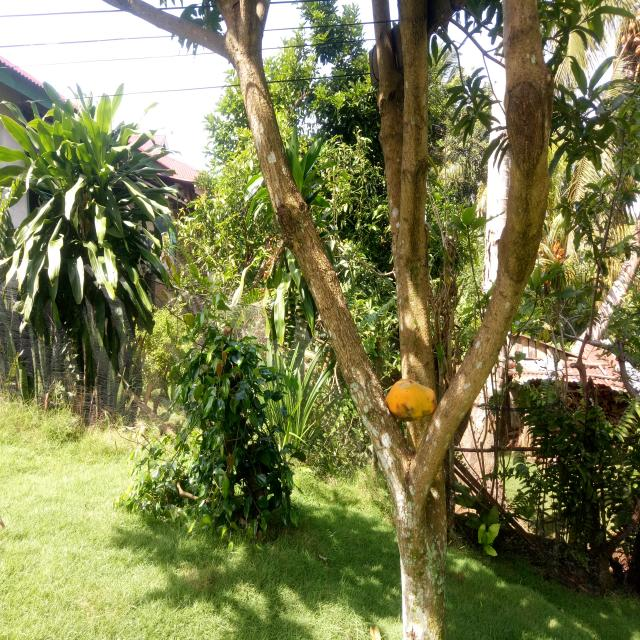Pepaya rippen: (384, 366, 438, 428)
